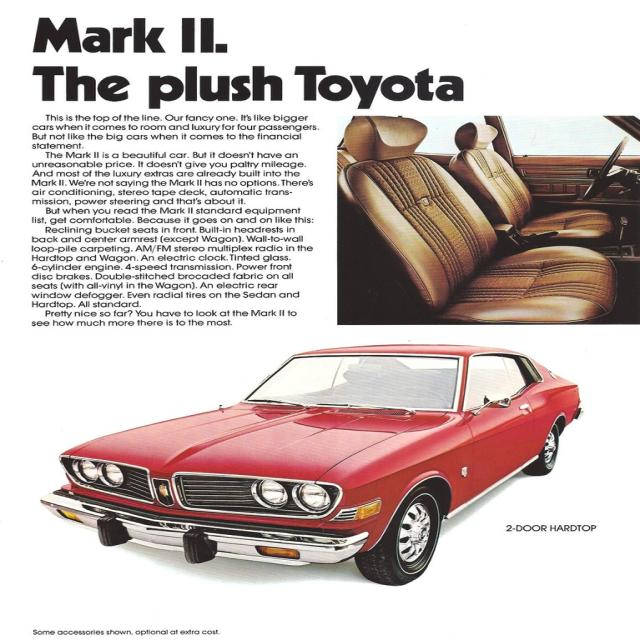car: (41, 344, 584, 584)
